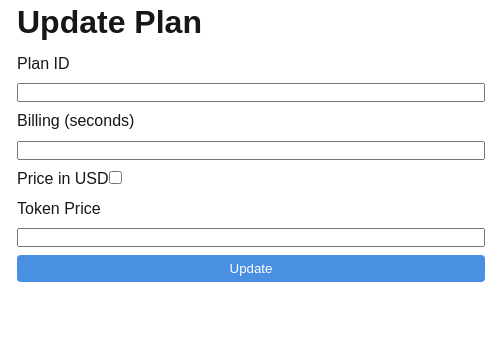
it: UpdatePlan page › validates plan id
In the field labelled "Billing (seconds)": (251, 150) [17,141,485,160], type "1"
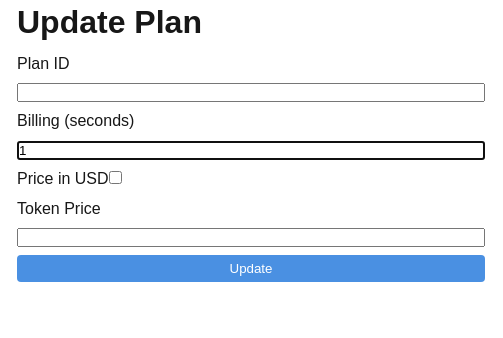
In the field labelled "Token Price": (251, 238) [17,228,485,247], type "1"
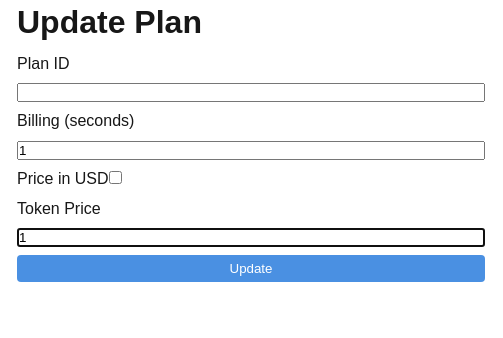
Click the button "Update": (251, 269) [17,255,485,282]
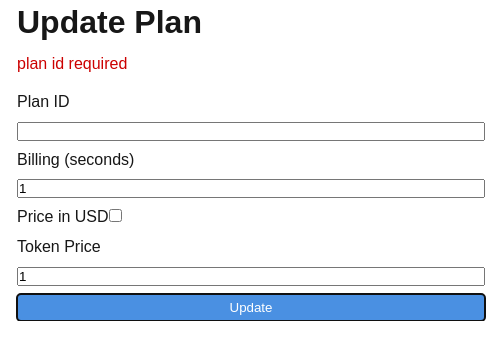
Result: the text "plan id required" is shown at [17,55,127,72]
